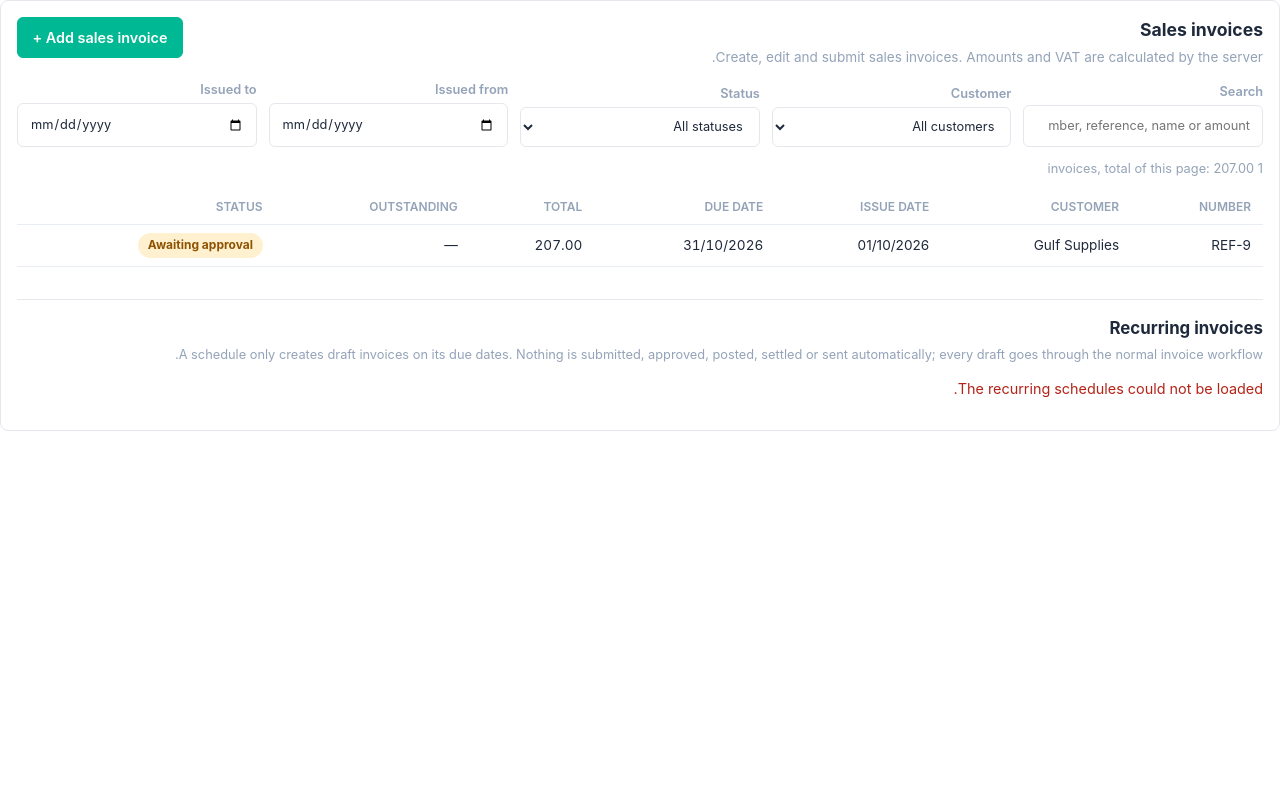
it: Invoice details actions › shows a blocking error inside the action area, next to the button that caused it
Click the text "REF-9" at (1197, 245), box [1131,225,1263,266]
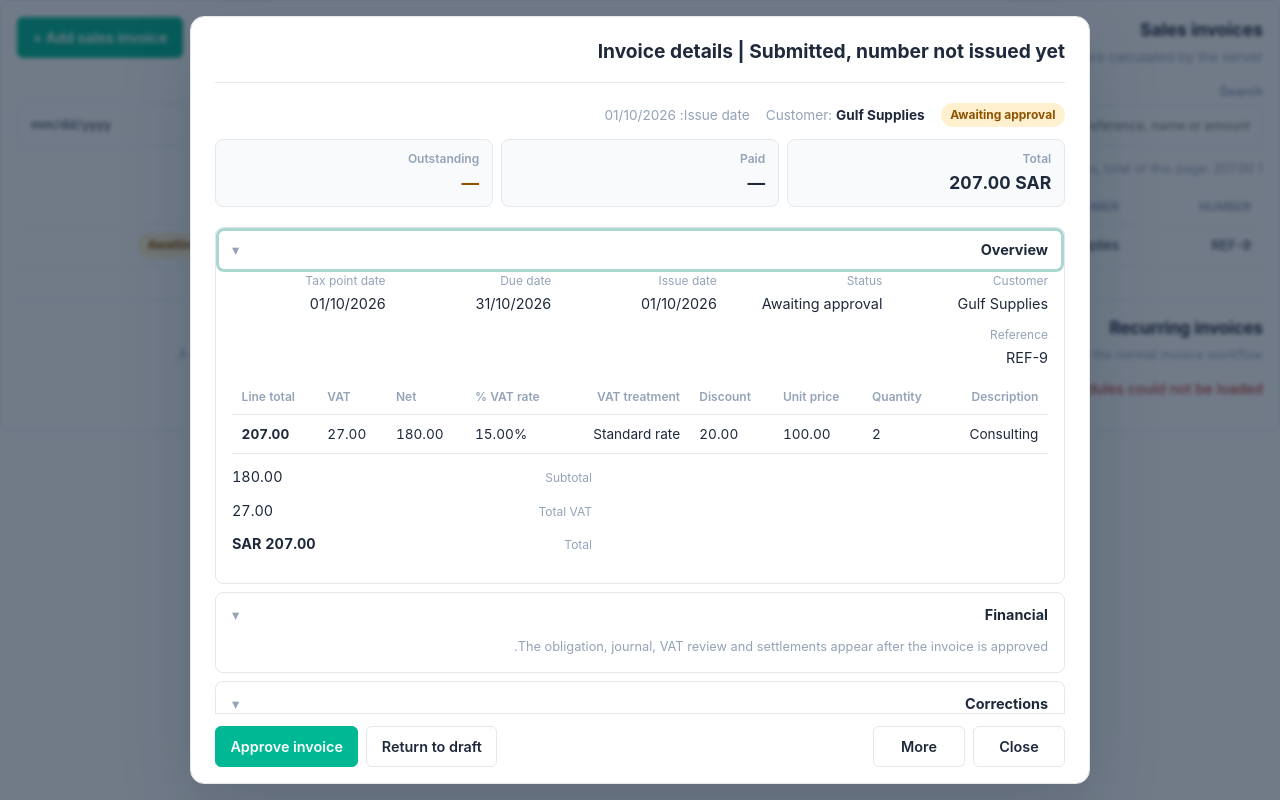
Click the button "Approve invoice" at (287, 746), box [215,726,358,767]
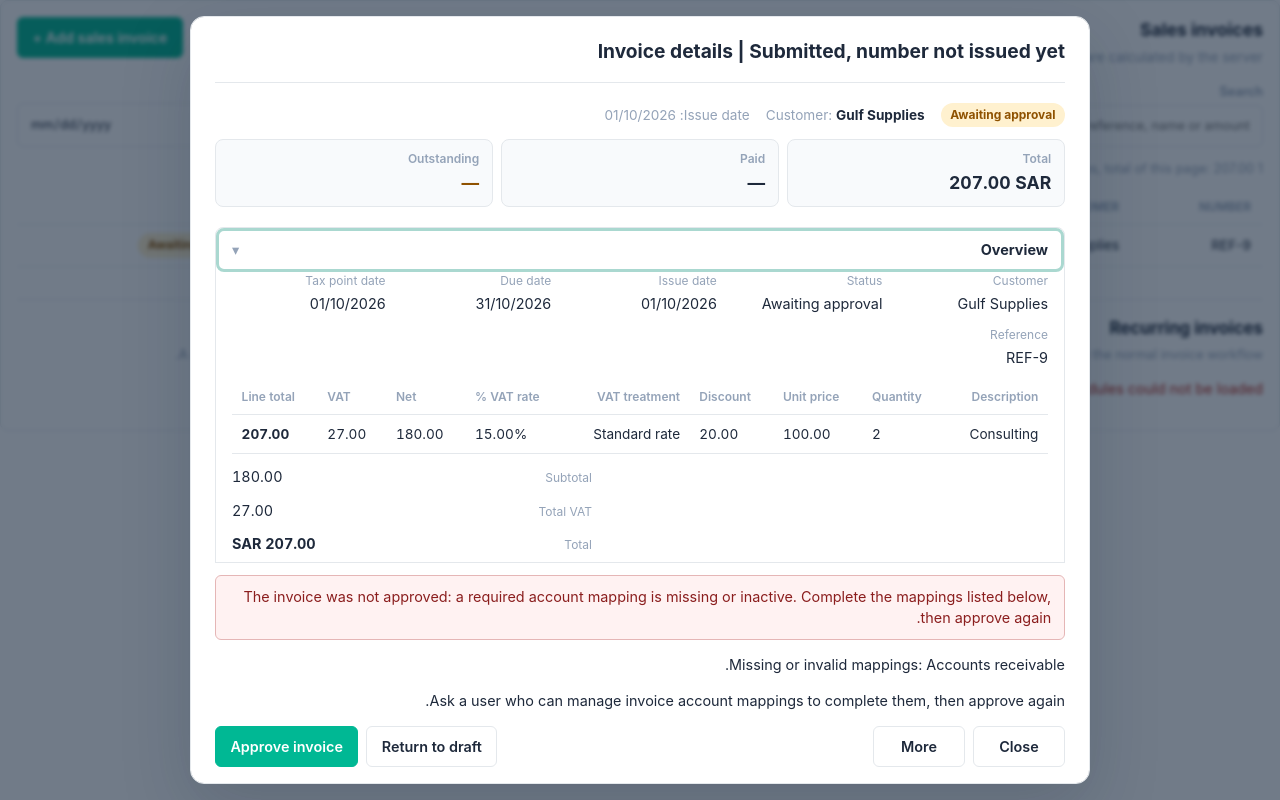
Result: the button "Approve invoice" is shown at [215,726,358,767]
Result: the element with test id "mapping-missing" is shown at [425,656,1065,709]
